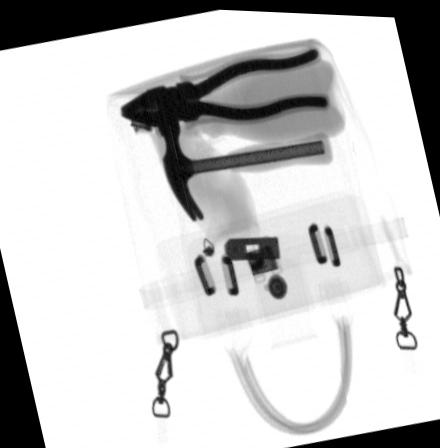Hammer: (157, 112, 333, 218)
Pliers: (119, 41, 331, 126)
